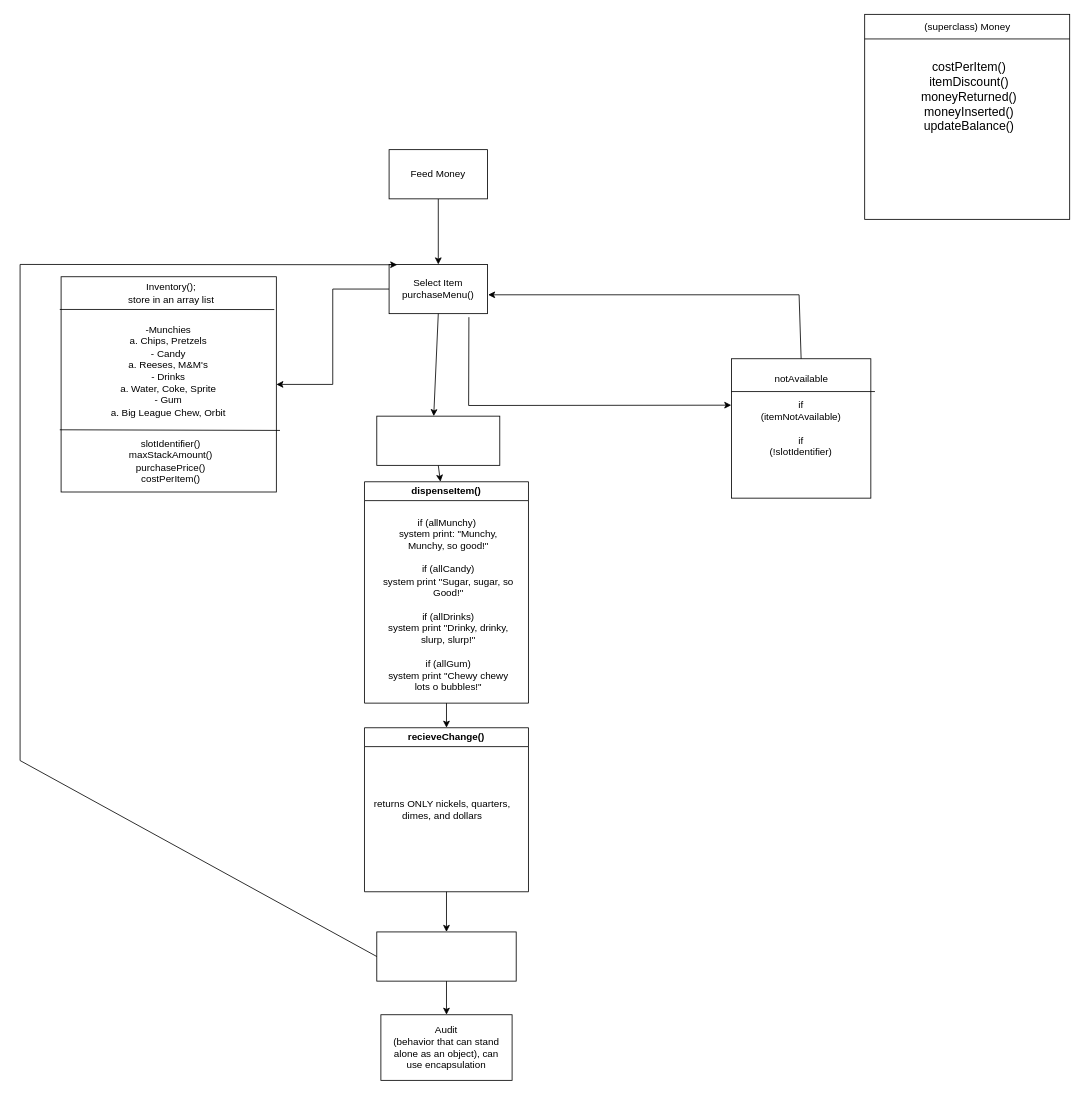
Some shapes in this 1085 by 1095 pixel diagram are drawn without their labels. The shapes that lost their labels are listed below. From the top down, each one's centre as x and y in pixels, then its label:
point (438, 440): Apply Discount If (buyOneItem) get (oneFreeItem)
point (446, 956): updateBalance()
